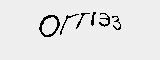Г: (60, 10, 77, 39)
З: (110, 13, 126, 32)
О: (38, 11, 59, 37)
П: (77, 8, 98, 33)
Э: (98, 11, 112, 32)
